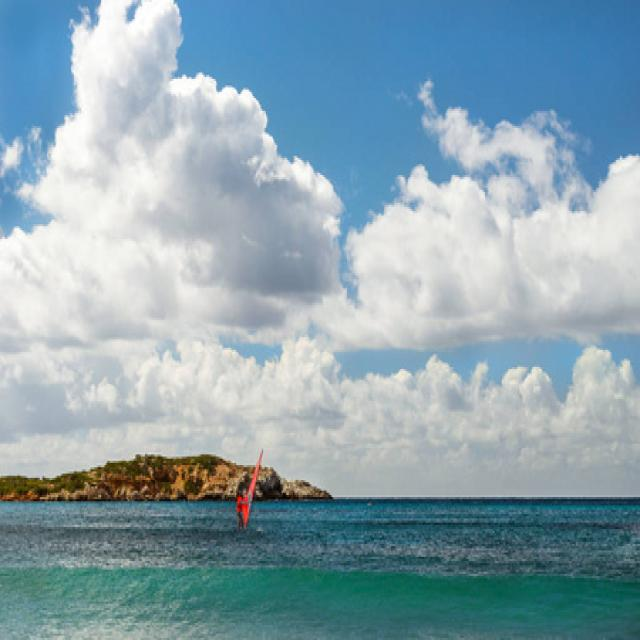island: (0, 426, 331, 513)
